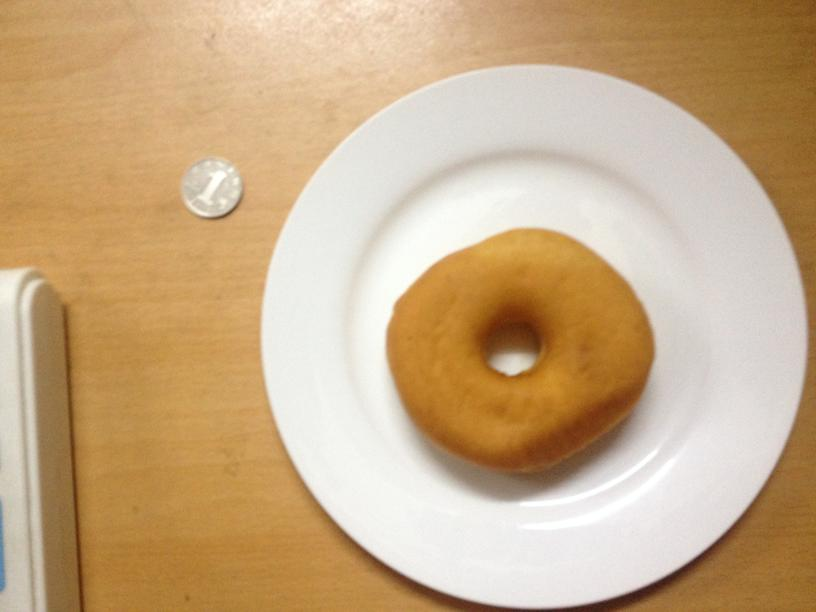coin: (176, 157, 242, 218)
doughnut: (386, 227, 653, 474)
